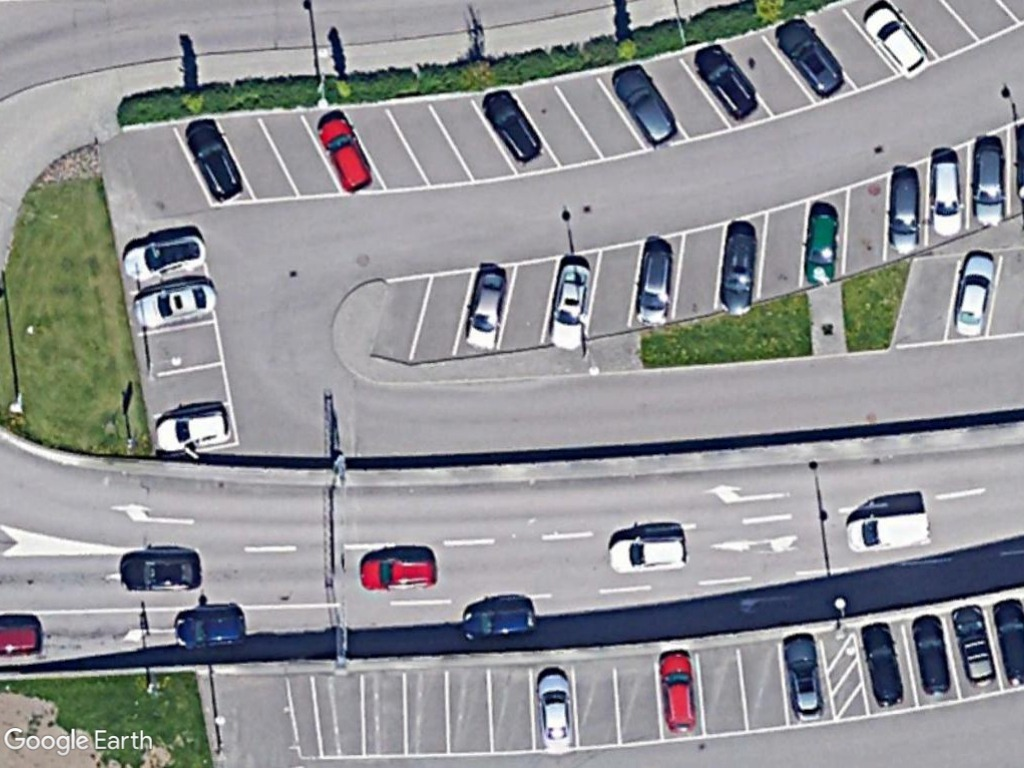car: (771, 12, 850, 104), (606, 61, 684, 151), (179, 114, 250, 209), (473, 85, 546, 169), (311, 108, 378, 199), (692, 44, 764, 126), (859, 2, 930, 83), (120, 226, 209, 290), (130, 272, 222, 333), (543, 256, 598, 358), (950, 243, 1002, 345), (780, 630, 833, 729), (712, 224, 764, 323), (856, 621, 912, 712), (529, 661, 582, 757), (149, 401, 233, 461), (461, 262, 512, 356), (655, 646, 705, 739), (603, 528, 692, 580), (907, 611, 956, 702), (966, 134, 1009, 236), (631, 239, 678, 332), (798, 202, 846, 293), (950, 601, 999, 690), (355, 548, 443, 597), (456, 597, 540, 647), (167, 604, 252, 653), (114, 551, 206, 596), (884, 163, 925, 260), (927, 150, 968, 243)
van: (838, 505, 936, 557)
